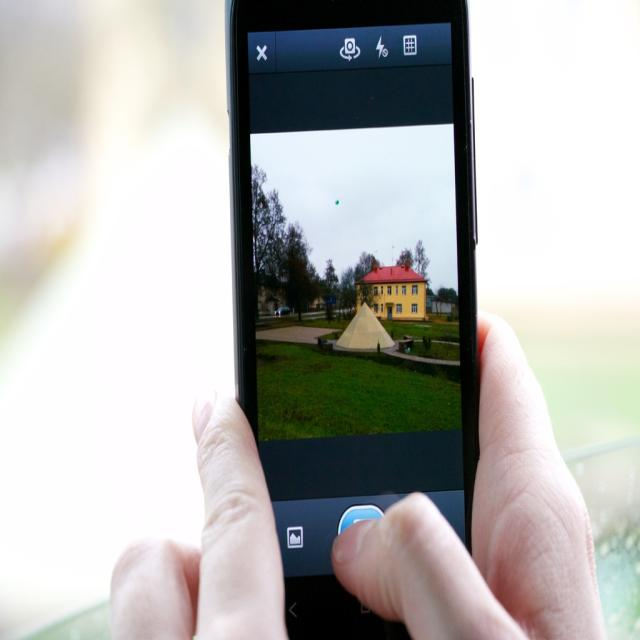Mobile-phone: (223, 6, 497, 596)
